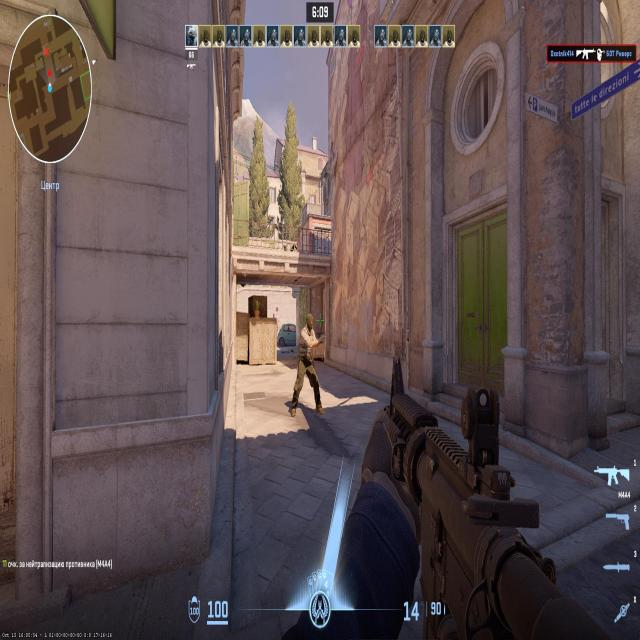T: (300, 317, 315, 383)
T_heat: (306, 317, 312, 332)
